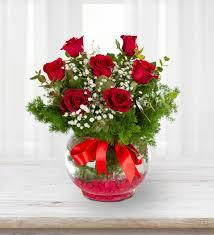Rose: (107, 86, 139, 116), (87, 51, 119, 81), (129, 59, 162, 87), (43, 55, 72, 84), (58, 30, 88, 58), (119, 26, 143, 58)
